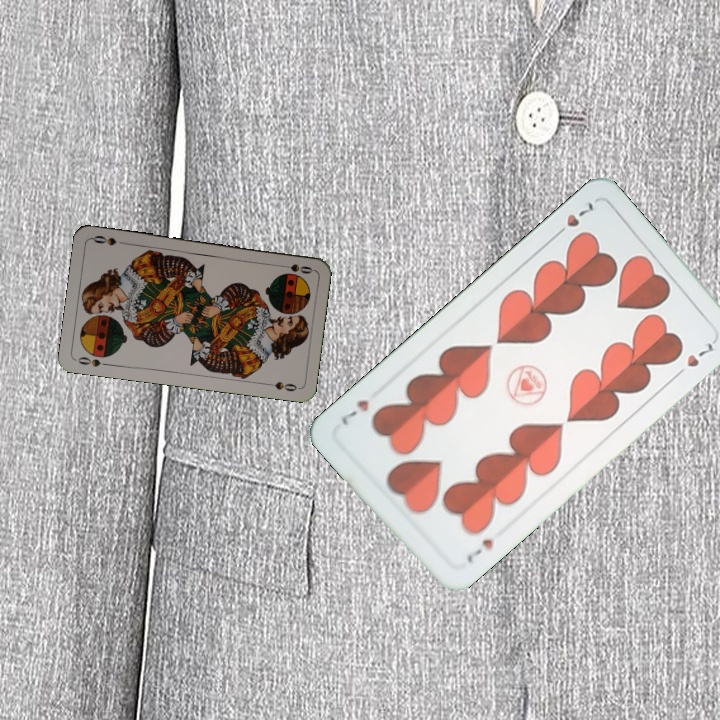H7: (549, 197, 596, 241), (463, 534, 496, 565)
SO: (275, 260, 315, 277), (74, 353, 113, 369)
